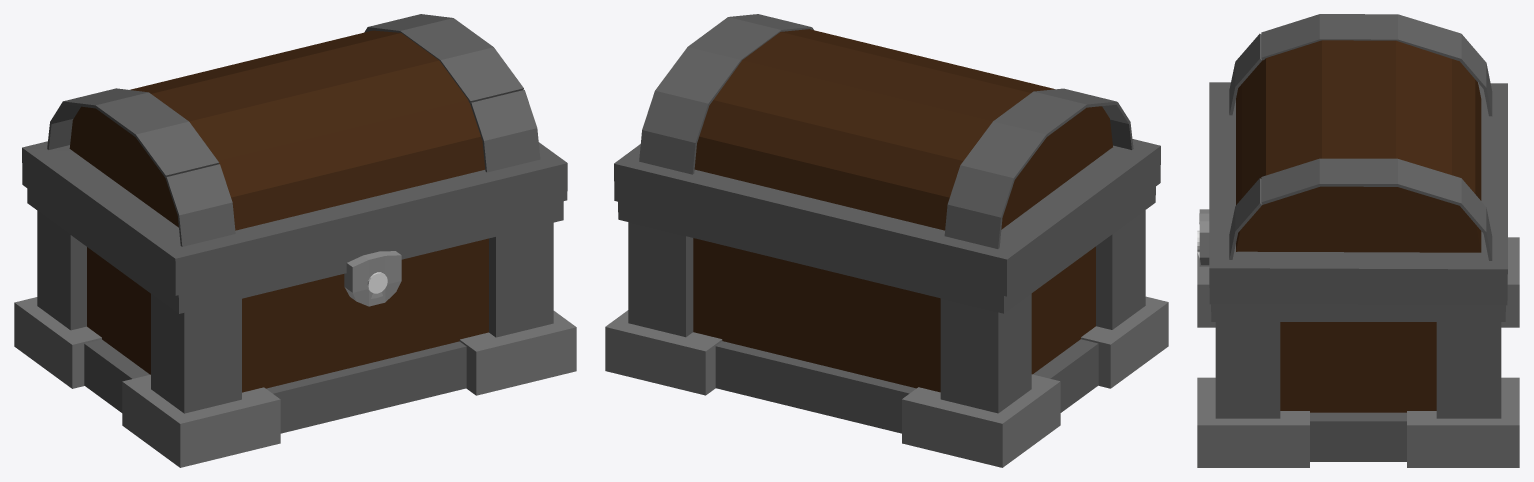
The model's file is treasure_chest.glb.
3 views of the same model, side by side, from view 1: azimuth 30°, elevation 25°; view 2: azimuth 150°, elevation 25°; view 3: azimuth 270°, elevation 25° (orthographic). The views are drawn at different scales.
Visible parts, largest first — view 1: box_top_s, box, box_line, box_bottom, box_bottom_line, box_top2_line, lock; view 2: box_top_s, box, box_line, box_bottom, box_bottom_line, box_top2_line; view 3: box_top_s, box_bottom, box, box_line, box_top2_line, box_bottom_line, lock.
Part boxes in pixels (x1=…): box_top_s: x1=22, y1=14, x2=567, y2=295; box: x1=87, y1=238, x2=488, y2=392; box_line: x1=37, y1=211, x2=553, y2=413; box_bottom: x1=14, y1=297, x2=576, y2=467; box_bottom_line: x1=84, y1=339, x2=466, y2=433; box_top2_line: x1=27, y1=188, x2=563, y2=313; lock: x1=344, y1=251, x2=401, y2=306; box_top_s: x1=614, y1=14, x2=1160, y2=296; box: x1=693, y1=238, x2=1095, y2=392; box_line: x1=628, y1=210, x2=1145, y2=413; box_bottom: x1=605, y1=296, x2=1168, y2=467; box_bottom_line: x1=715, y1=339, x2=1098, y2=433; box_top2_line: x1=618, y1=187, x2=1155, y2=313; box_top_s: x1=1209, y1=14, x2=1507, y2=305; box_bottom: x1=1197, y1=237, x2=1519, y2=467; box: x1=1280, y1=322, x2=1436, y2=412; box_line: x1=1215, y1=322, x2=1501, y2=418; box_top2_line: x1=1211, y1=304, x2=1505, y2=321; box_bottom_line: x1=1310, y1=412, x2=1406, y2=461; lock: x1=1199, y1=209, x2=1209, y2=266.
Size of the model in its own units: 4.08 by 2.78 by 2.96.
